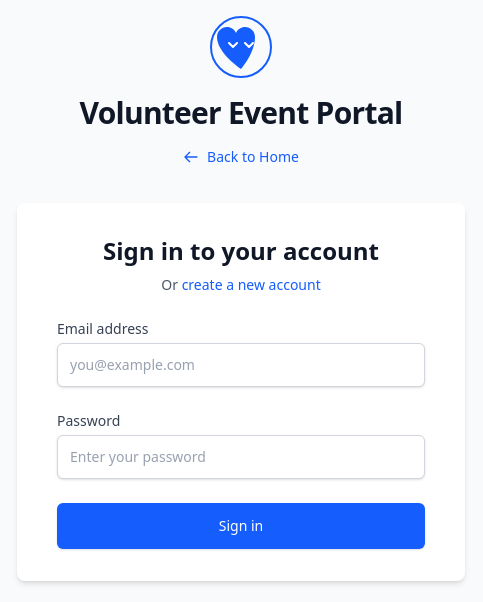
it: LoginPage › shows loading state during submission
Type "test@example.com" into the field labelled "Email address" at (241, 365), box [57,343,425,387]
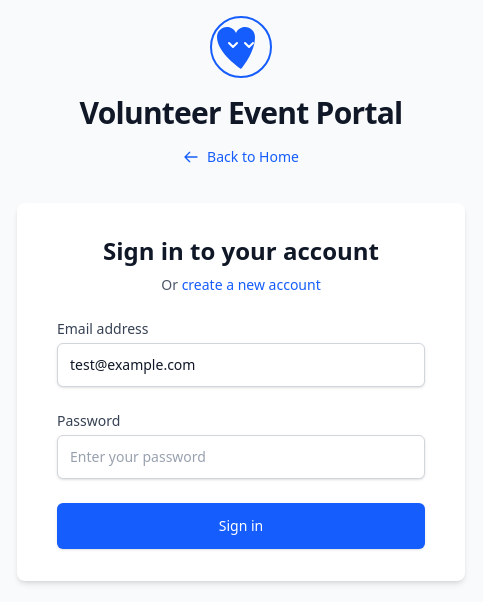
Type "password123" into the password field labelled "Password" at (241, 457), box [57,435,425,479]
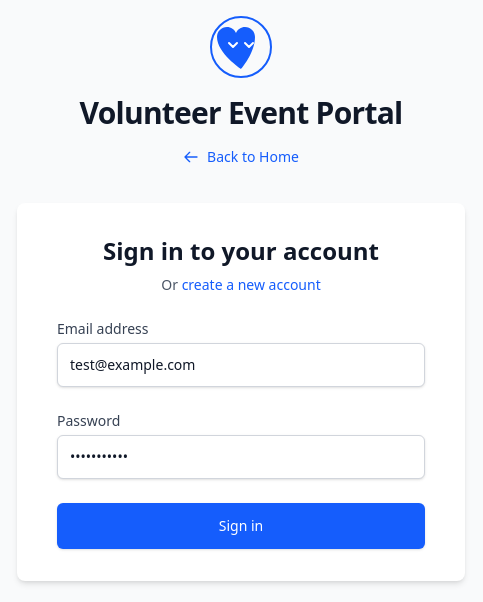
Click the button "Sign in" at (241, 526), box [57,503,425,549]
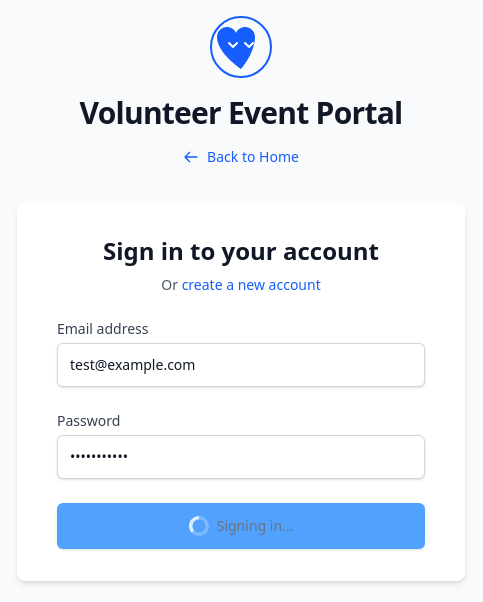
Expected: the text "Signing in..." is shown, [189,516,293,536]
Expected: the button named "sign in" is disabled, [57,503,425,549]
